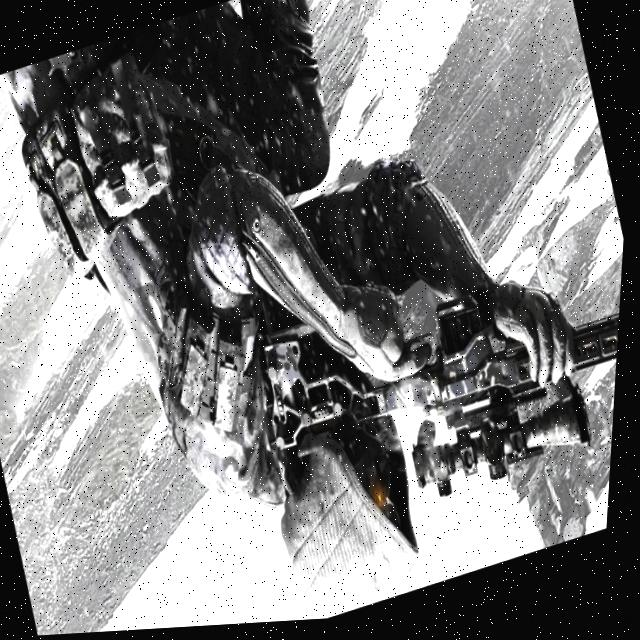firearm: (244, 228, 628, 553)
